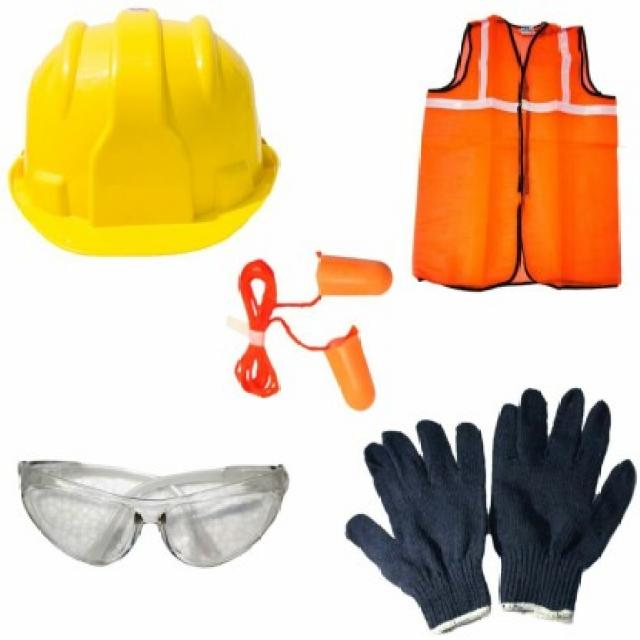Reflective-Jacket: (394, 18, 632, 294)
Safety-Helmet: (0, 7, 289, 255)
